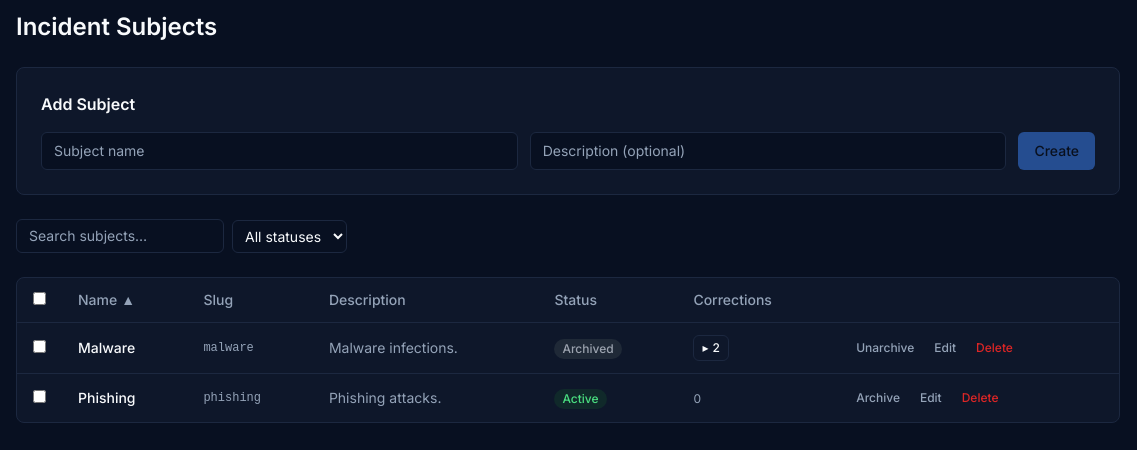
SubjectsAdmin › edits a subject name and description
Expected: the text "Phishing" is shown, x1=62 y1=374 x2=187 y2=422
Click the button with aria-label "Edit Phishing": (931, 398) x1=912 y1=386 x2=950 y2=410
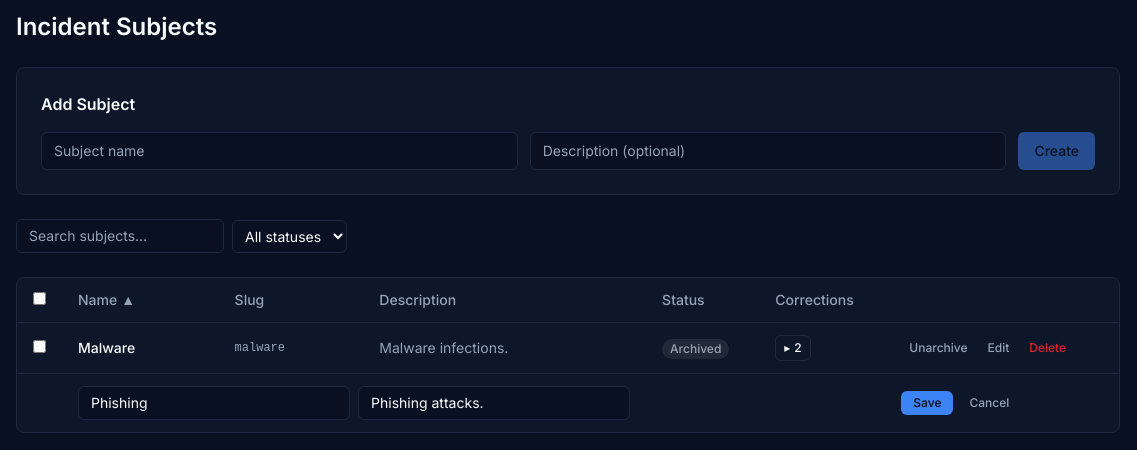
Replace the text in the field named "Edit name" with "Spear Phishing": (214, 403) x1=78 y1=386 x2=350 y2=420
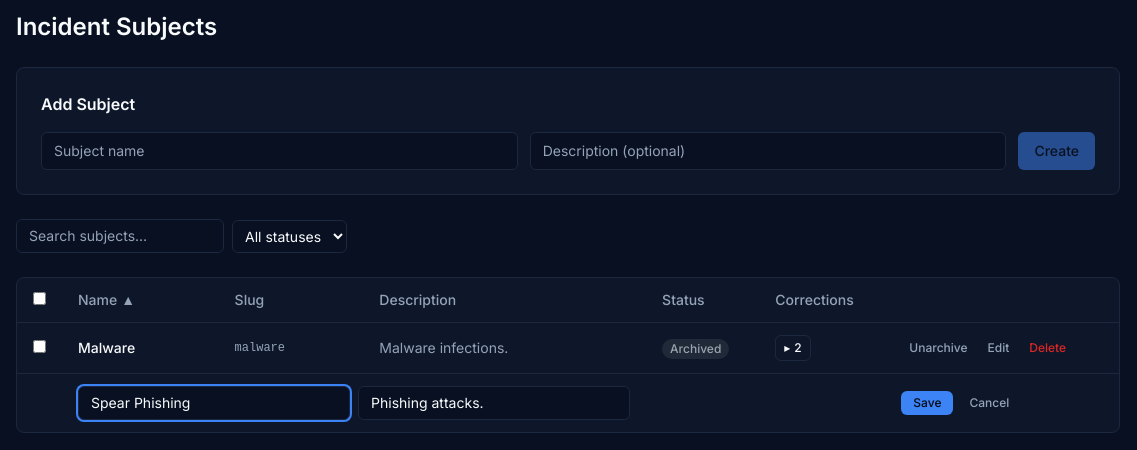
Click the button "Save": (927, 403) x1=901 y1=391 x2=953 y2=415
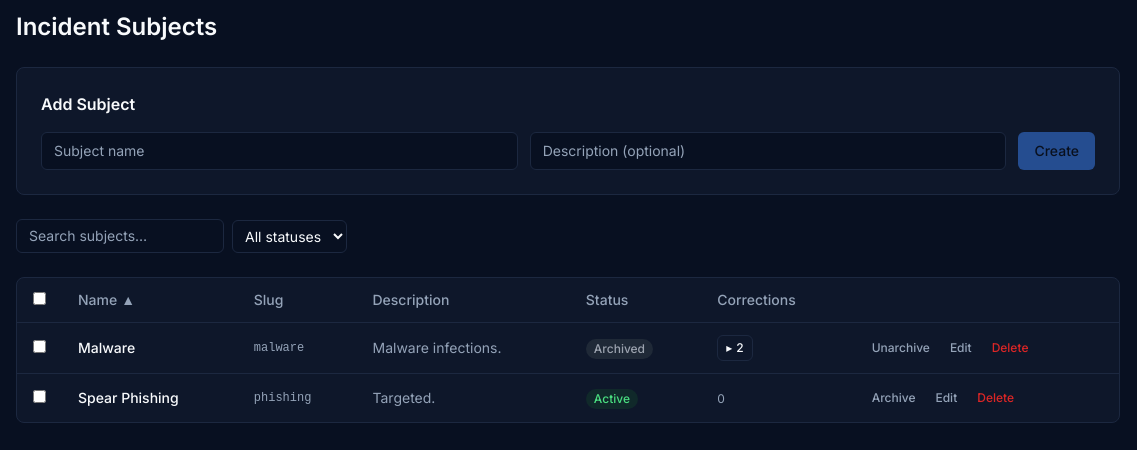
Now the text "Spear Phishing" is shown, box x1=62 y1=374 x2=238 y2=422
